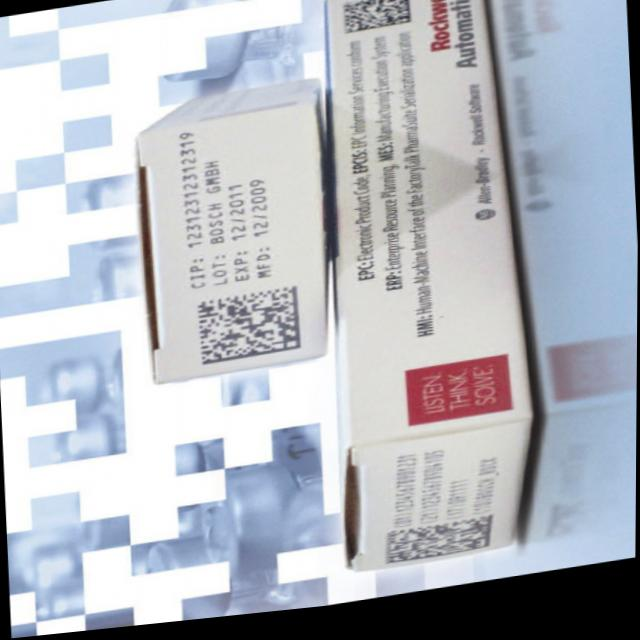datamatrix: (190, 289, 306, 375), (382, 524, 497, 577), (340, 1, 415, 43)
